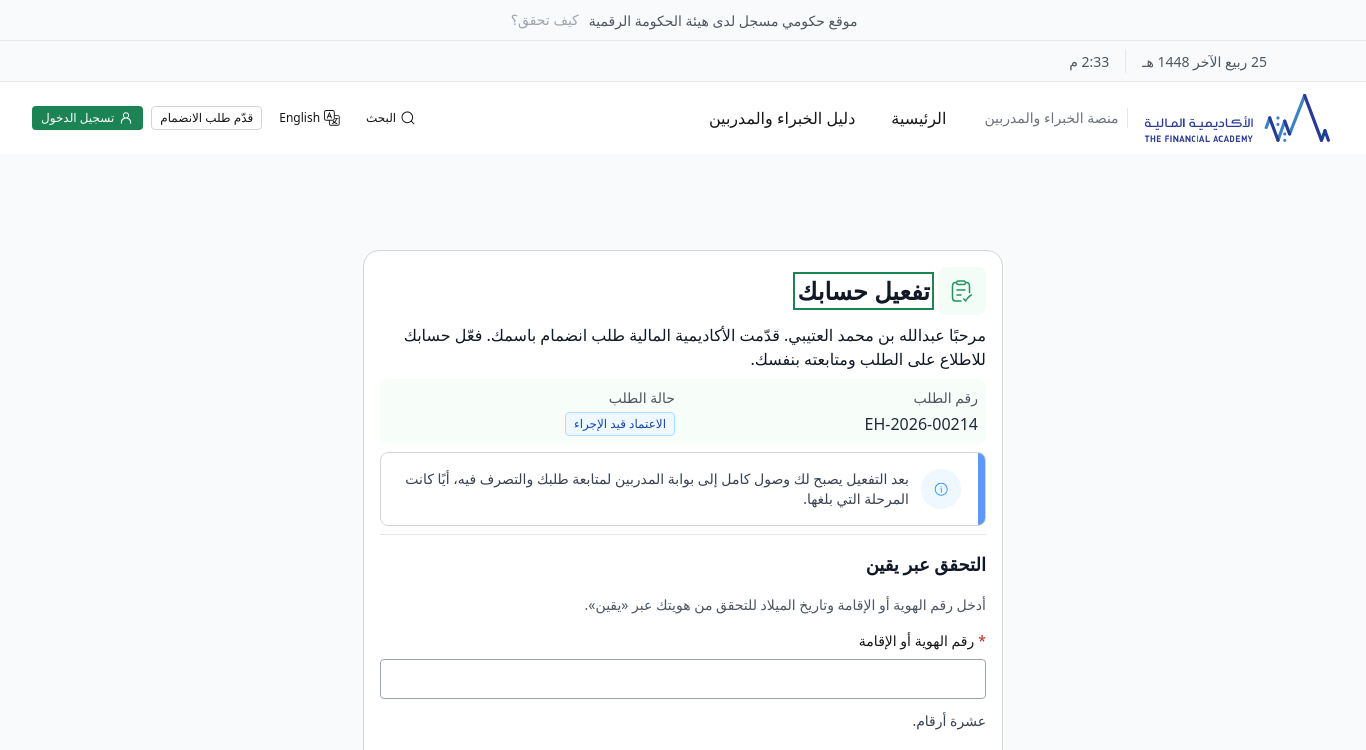
Test: J-02/F4 — Nominee Account Activation & Portal Access › J-02/F4/AC-2: the field validation is J-01’s, message for message
The width and height of the screenshot is (1366, 750).
Expected: the heading "تفعيل حسابك" is shown, [798,276,930,306]
Type "123" into the field labelled "رقم الهوية أو الإقامة".
click(687, 679); type("123")  # box [397,660,977,698]
(page scrolled)
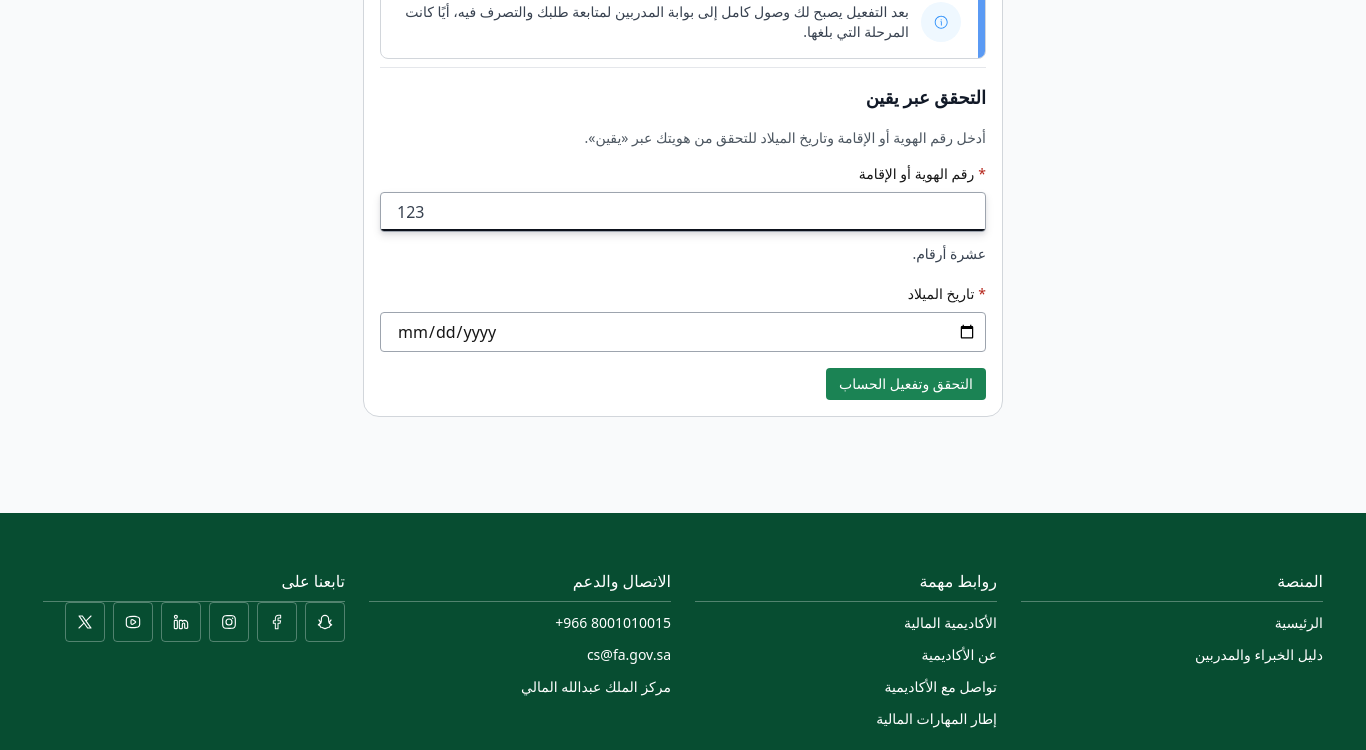
Click the button "التحقق وتفعيل الحساب".
click(906, 384)  # box [826,368,986,400]
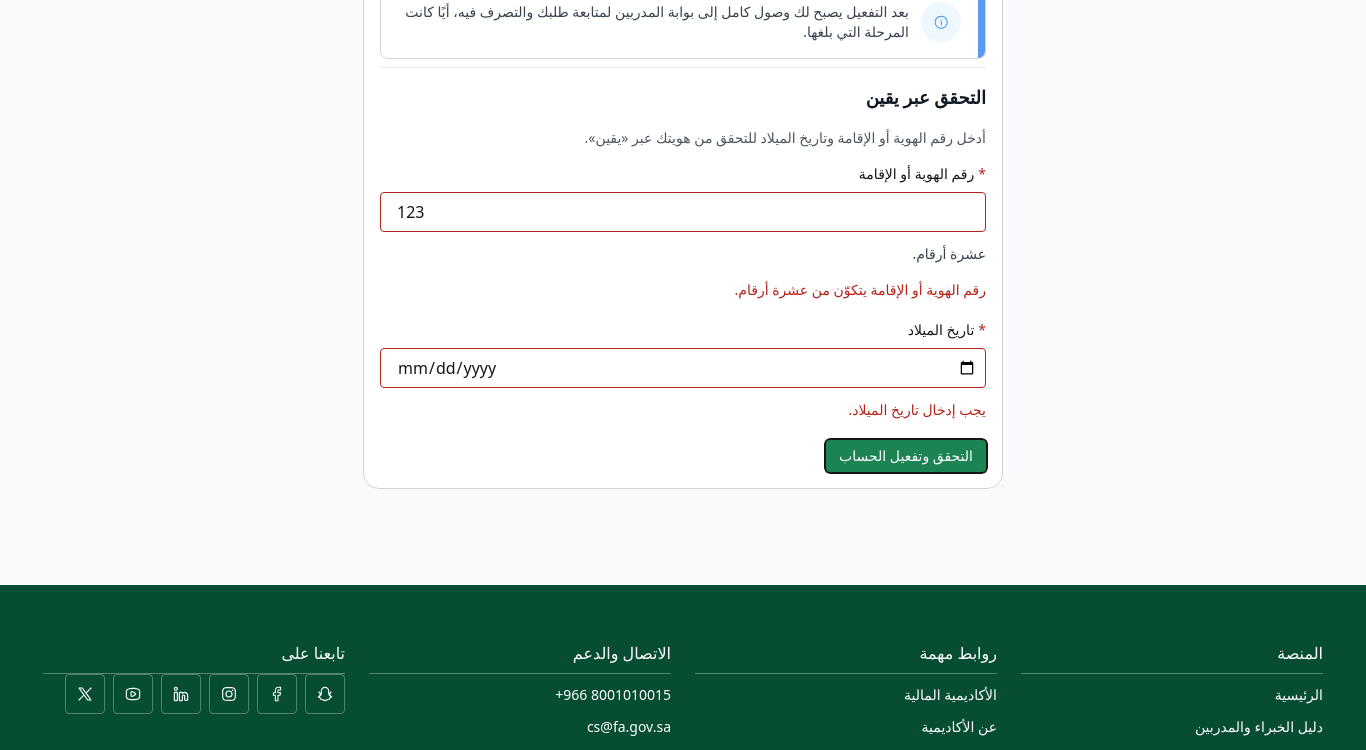
Expected: the text "رقم الهوية أو الإقامة يتكوّن من عشرة أرقام." is shown, [735,280,986,299]
Expected: the text "يجب إدخال تاريخ الميلاد." is shown, [848,400,986,419]
